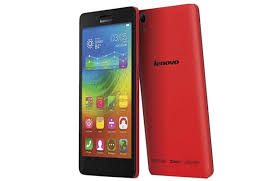lenovo: (135, 3, 214, 179), (76, 6, 140, 179)
